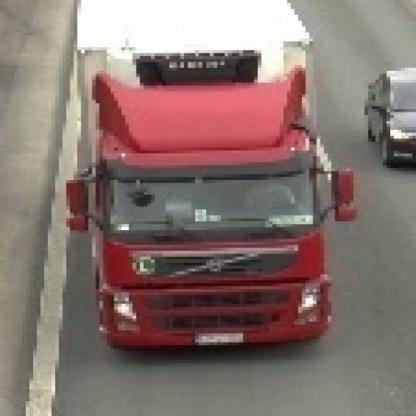truck: (67, 1, 366, 352)
